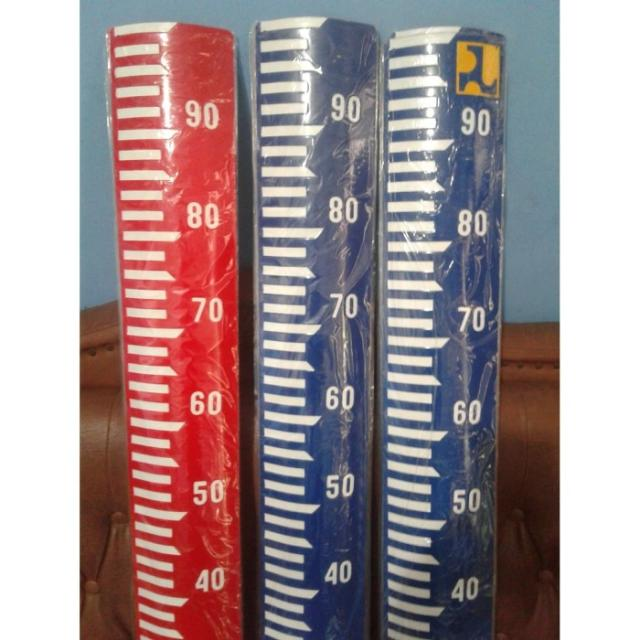40: (192, 564, 227, 594), (322, 558, 354, 589), (450, 576, 482, 604)
50: (190, 475, 226, 506), (325, 472, 357, 501), (451, 489, 483, 517)
60: (187, 386, 226, 419), (449, 398, 484, 426), (323, 382, 355, 412)
70: (328, 290, 359, 322), (456, 304, 488, 335), (192, 295, 225, 325)
80: (324, 188, 363, 230), (182, 195, 223, 233), (455, 206, 490, 236)
90: (328, 89, 365, 130), (182, 97, 223, 133), (461, 105, 495, 140)
staff: (252, 13, 382, 640), (103, 25, 235, 640), (388, 24, 507, 640)
